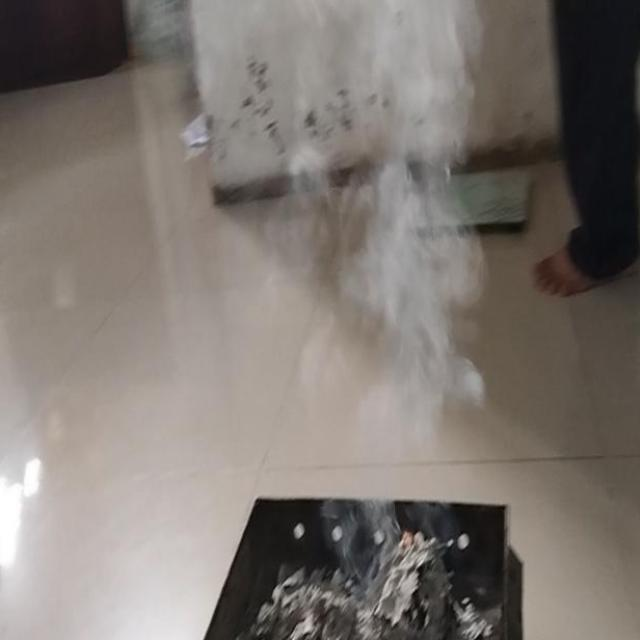fire: (336, 0, 489, 485)
